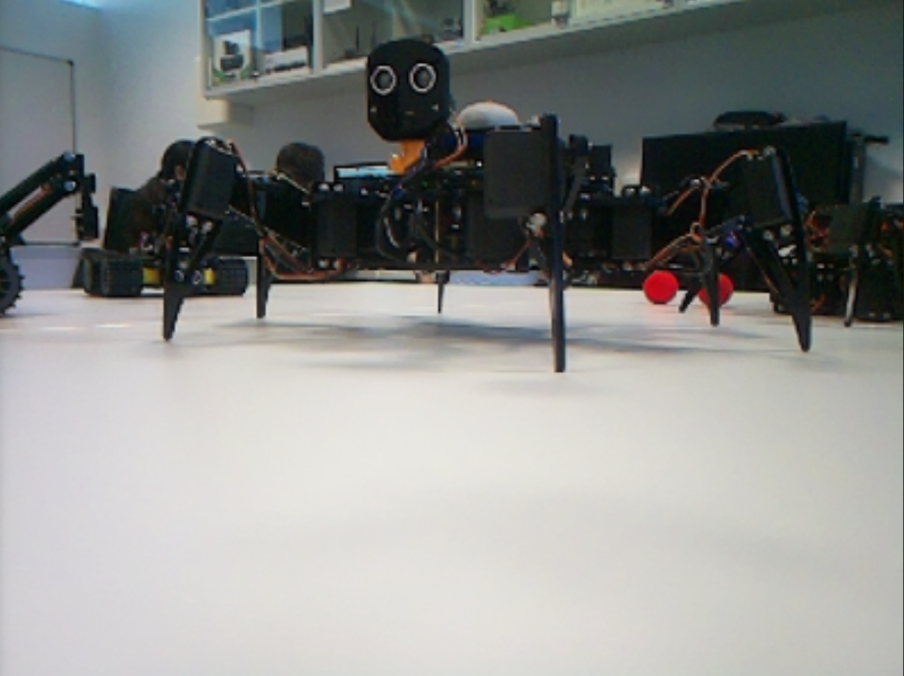bola_lejos: (643, 269, 680, 303)
hexapodo_ajeno: (162, 36, 817, 377)
